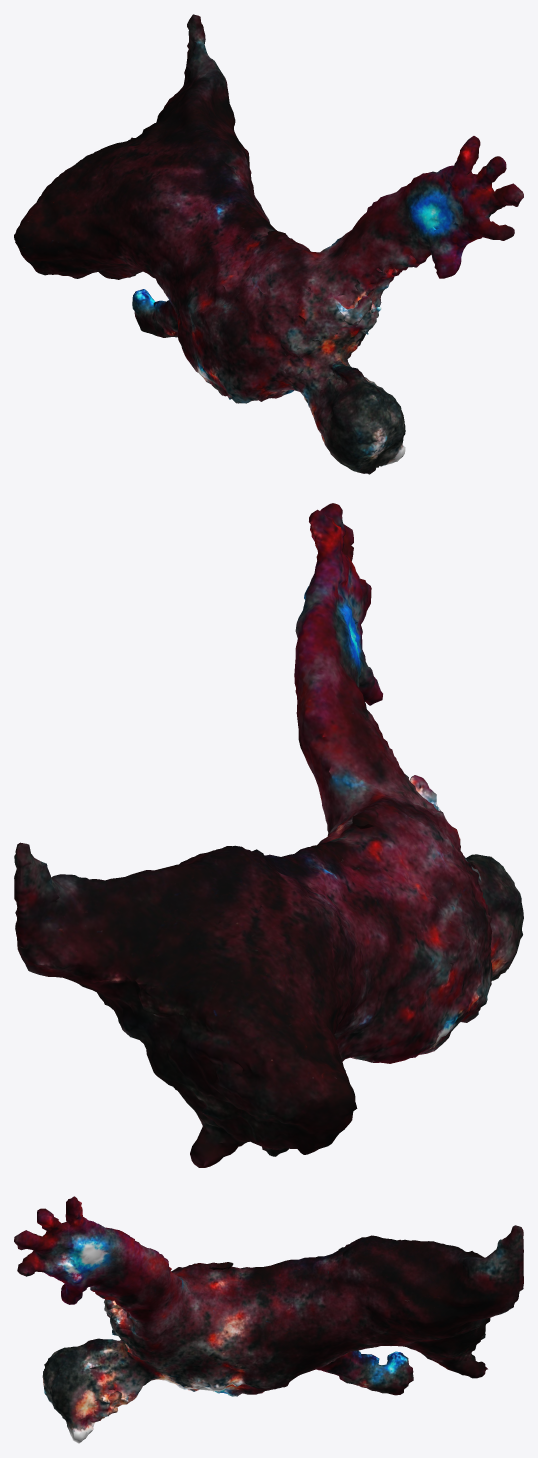
The model's file is avenger_before.gltf.
The picture shows the model from 3 angles, top to bottom: view 1: azimuth 30°, elevation 25°; view 2: azimuth 150°, elevation 25°; view 3: azimuth 270°, elevation 25°; orthographic projection. The views are drawn at different scales.
Parts seen in each view (by area): view 1: model; view 2: model; view 3: model.
Boxes of the visible parts, box(x1,y1,x2,y2) form: model: box(14, 14, 523, 474); model: box(14, 503, 523, 1167); model: box(14, 1196, 523, 1443).
Size of the model in its own units: 0.5847 by 0.6634 by 1.08.
1 material, 1 textured.
